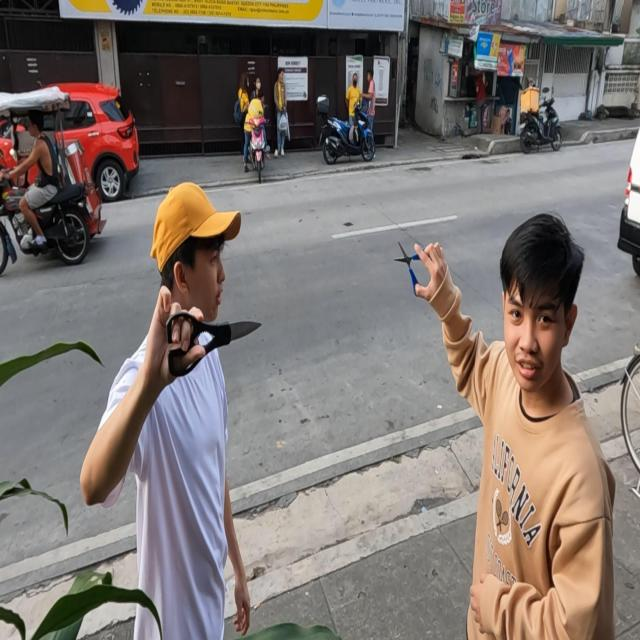scissor: (165, 311, 263, 377), (394, 241, 431, 296)
